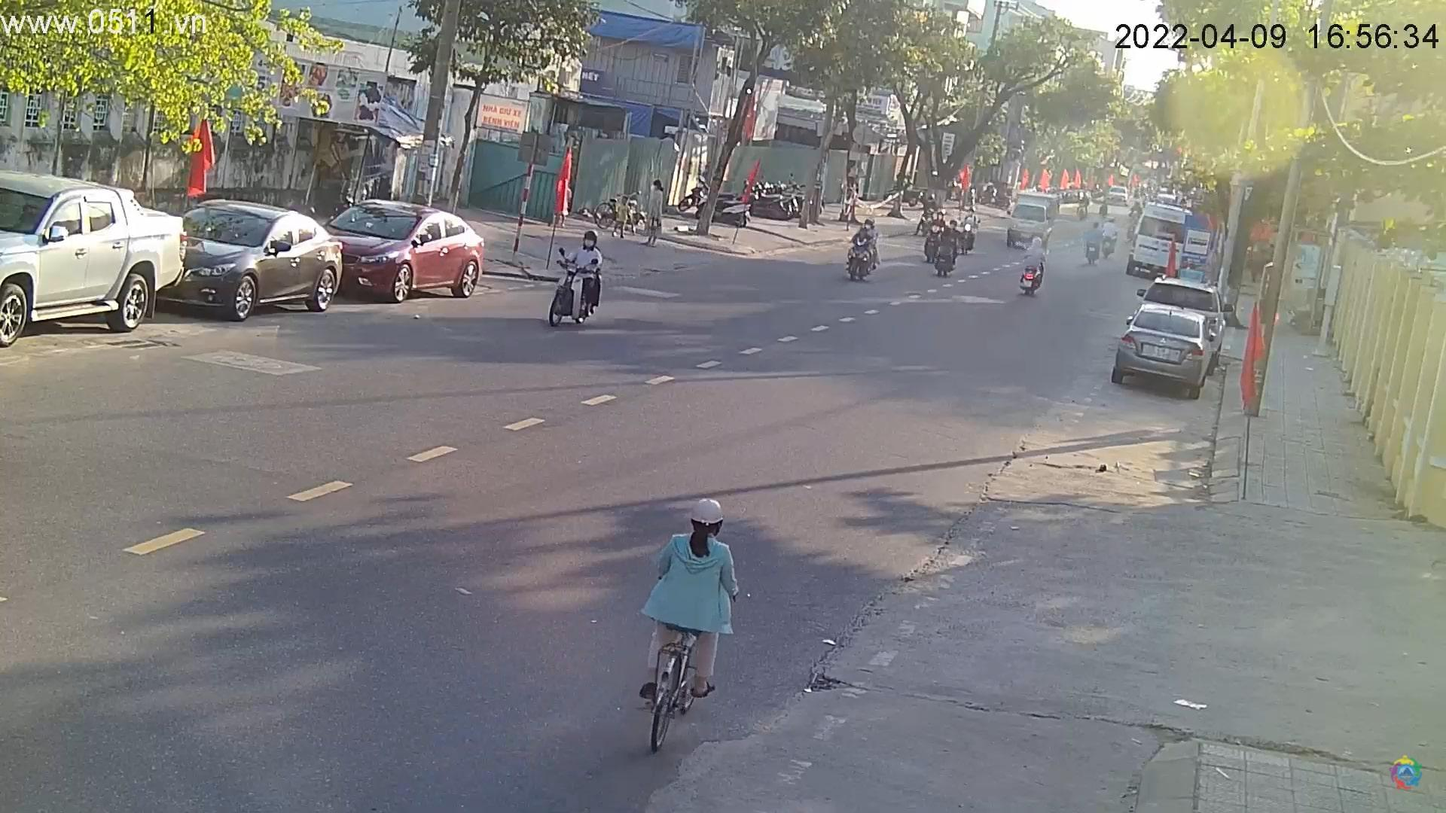car: (2, 173, 187, 352), (163, 200, 352, 322), (319, 199, 489, 305)
motorbike: (545, 247, 605, 335), (840, 223, 879, 284)
